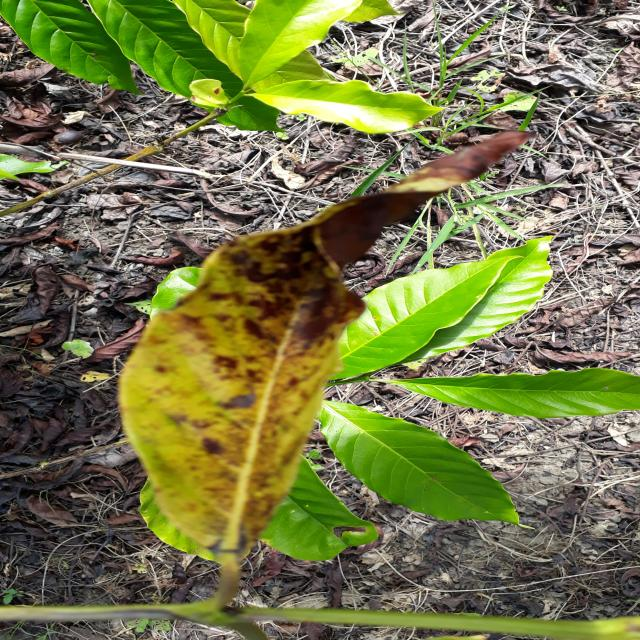Plaga-AranaRoja: (118, 131, 528, 612)
